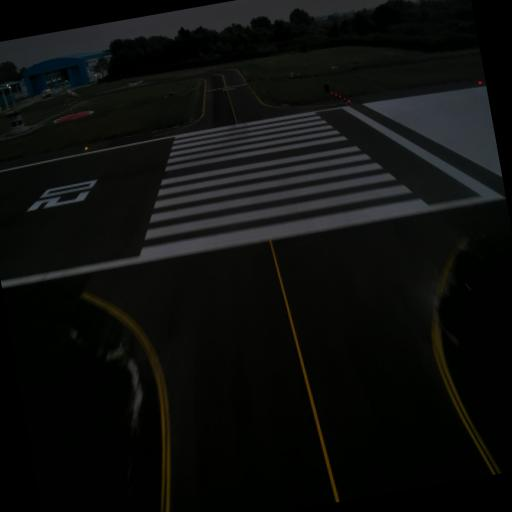on: (476, 78, 483, 87), (82, 144, 88, 153), (347, 99, 350, 104), (330, 90, 333, 95), (343, 96, 346, 100), (338, 94, 341, 98), (334, 92, 336, 96)
